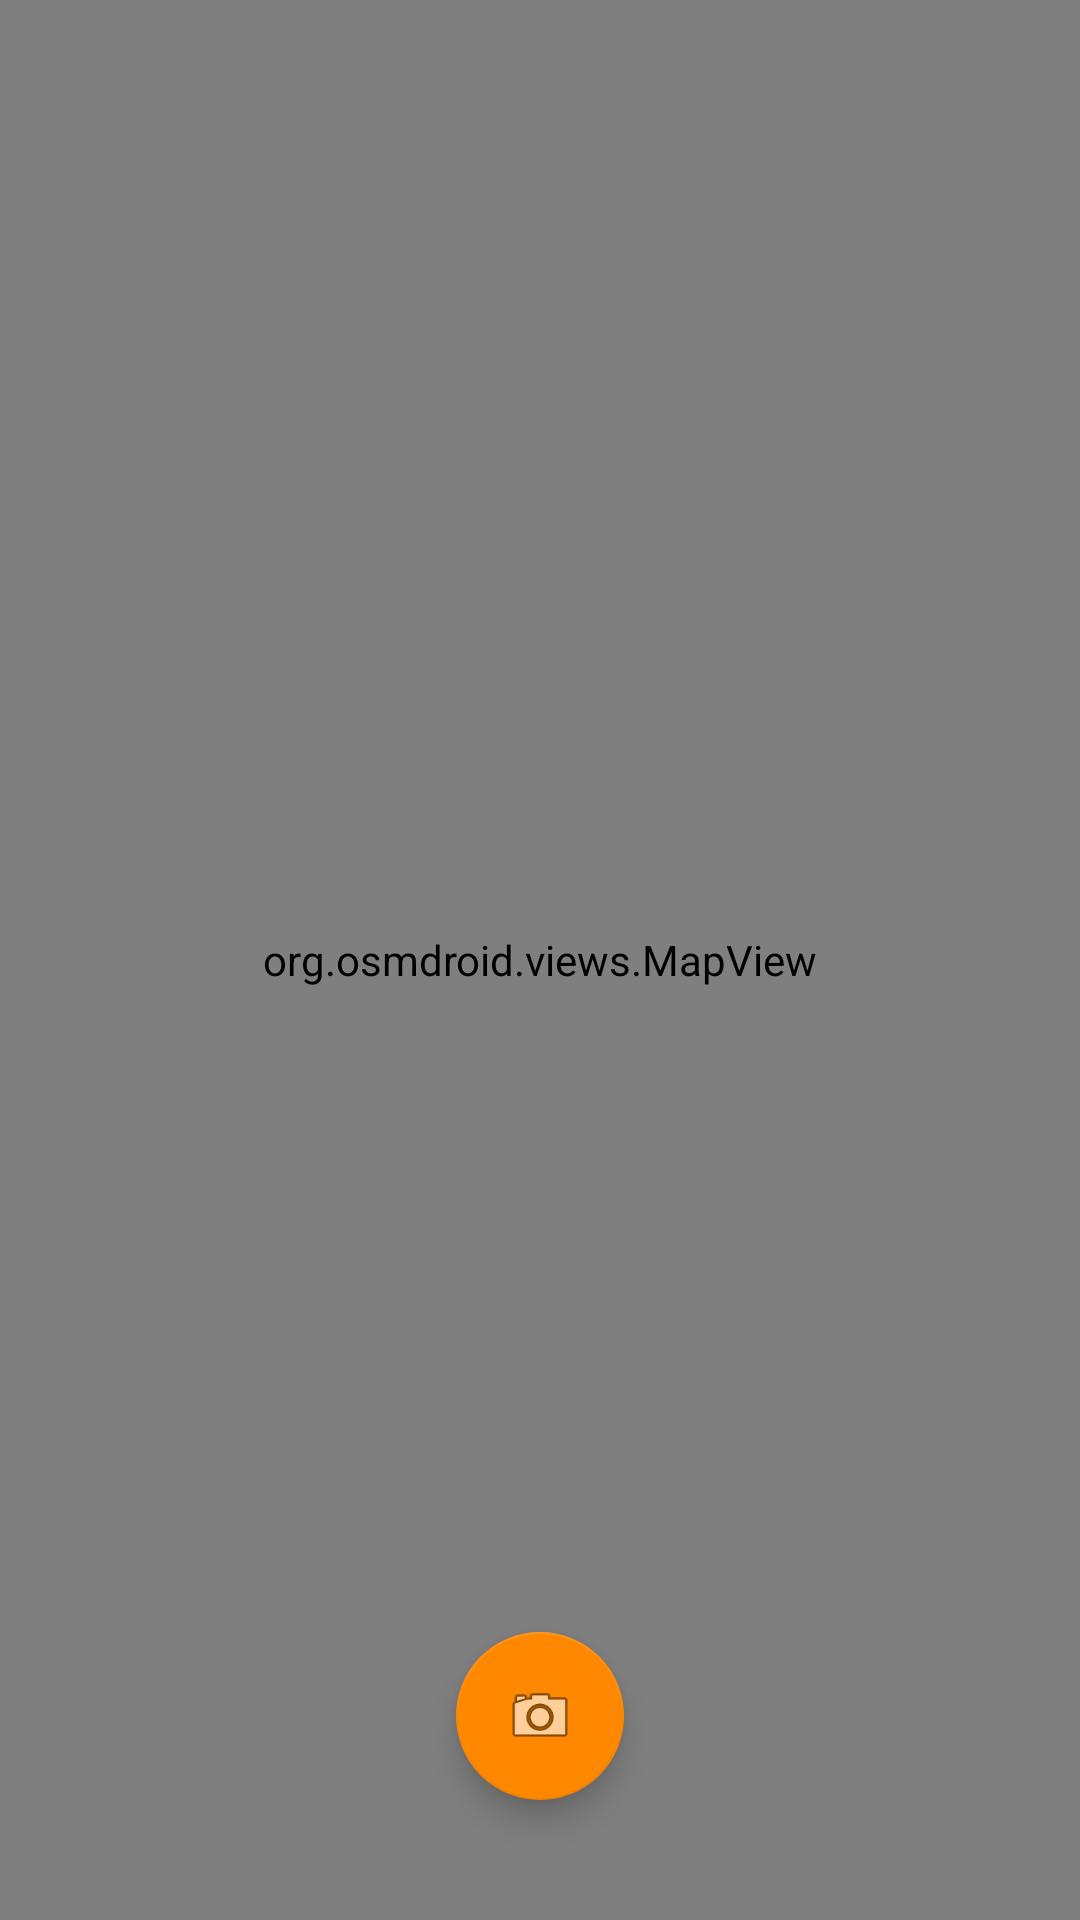

Named icons in this screenshot (1080px×1920px) and their bounding boxes, (x1, y1, x2, y2):
camera: (456, 1632, 624, 1800)
